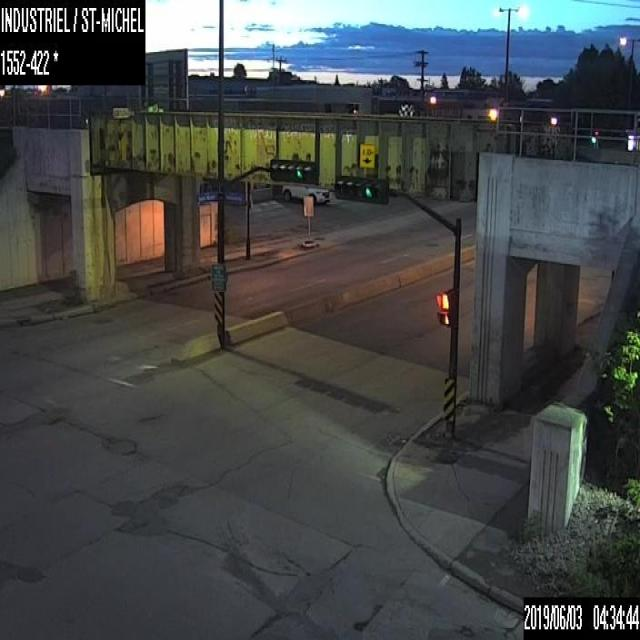vehicle: (280, 182, 329, 204)
